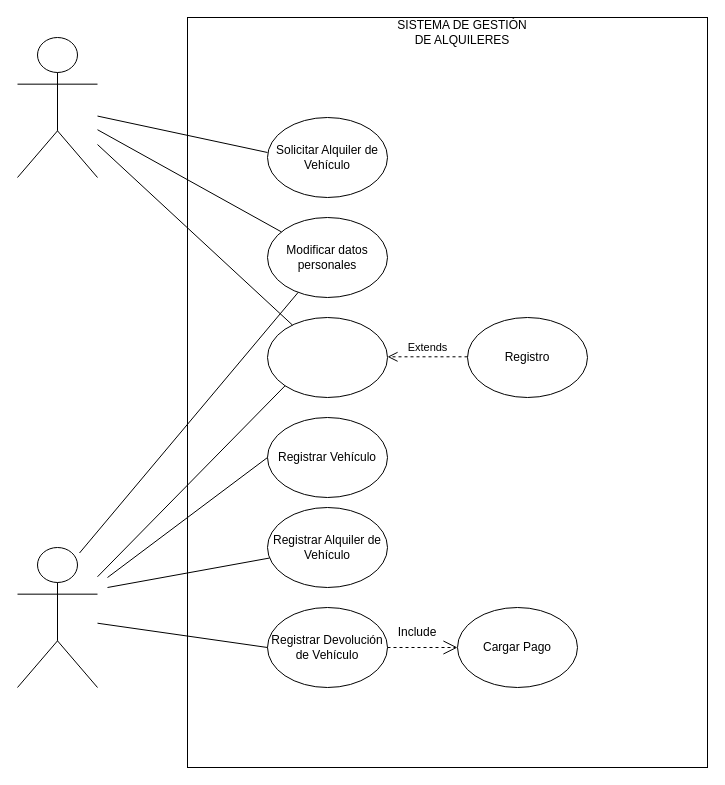
This 725x785 diagram has some shape labels left out. The centre of each missing label's shape, as x and y in pixels:
Cliente: [57,107]
Empleado: [57,617]
Inicio de Sesión: [327,357]
